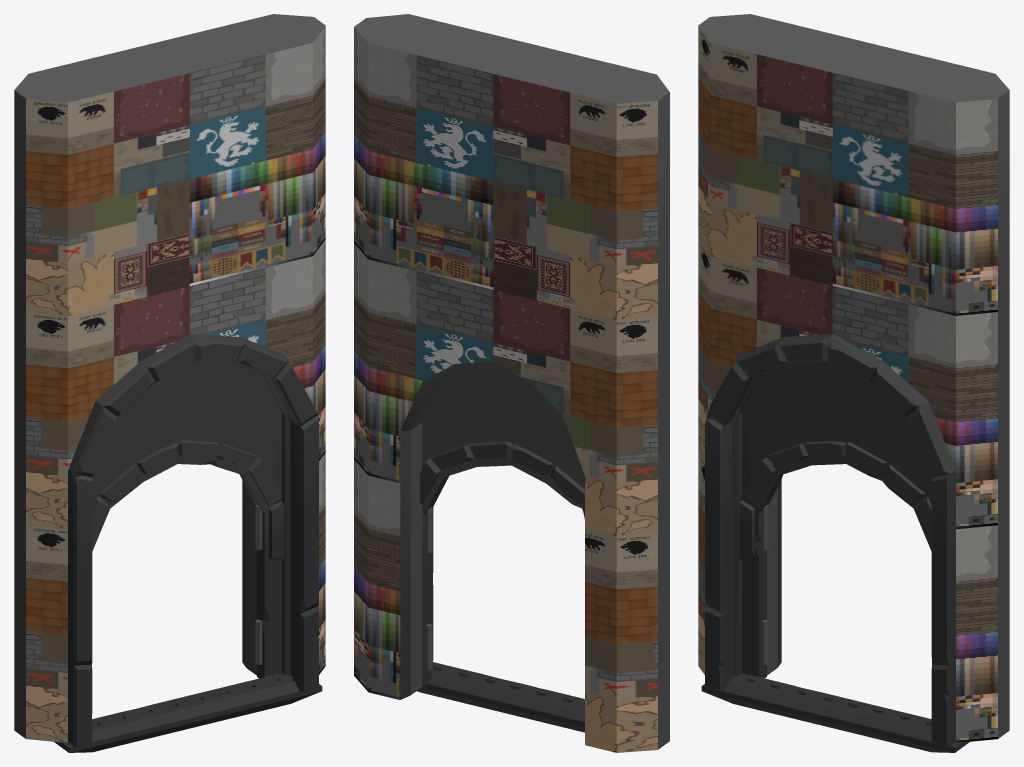
Rendered from kingdom_SM_Bld_Castle_Wall_Gate_L_01.gltf.
3 views of the same model, side by side, from view 1: azimuth 30°, elevation 25°; view 2: azimuth 150°, elevation 25°; view 3: azimuth 330°, elevation 25° (orthographic).
Visible parts, largest first — view 1: SM_Bld_Castle_Wall_Gate_L_01; view 2: SM_Bld_Castle_Wall_Gate_L_01; view 3: SM_Bld_Castle_Wall_Gate_L_01.
Boxes of the visible parts, left/top/right/bottom form: SM_Bld_Castle_Wall_Gate_L_01: left=14, top=14, right=325, bottom=752; SM_Bld_Castle_Wall_Gate_L_01: left=354, top=14, right=669, bottom=752; SM_Bld_Castle_Wall_Gate_L_01: left=698, top=14, right=1009, bottom=752.
Bounding box in the file's own units: 7.35 × 15.34 × 2.
Materials: 1 (1 with a texture image).
